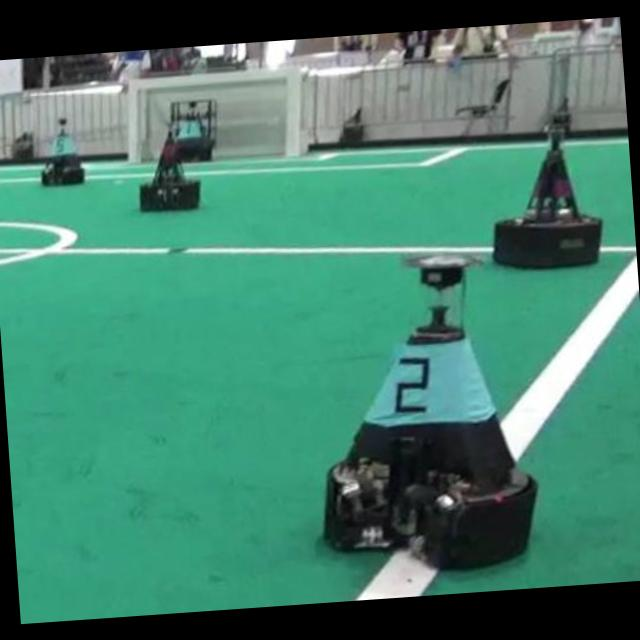goal: (123, 81, 140, 163), (285, 68, 300, 155)
robot: (325, 259, 536, 567), (494, 123, 601, 267), (139, 132, 200, 211), (170, 99, 216, 160), (42, 118, 84, 184)
